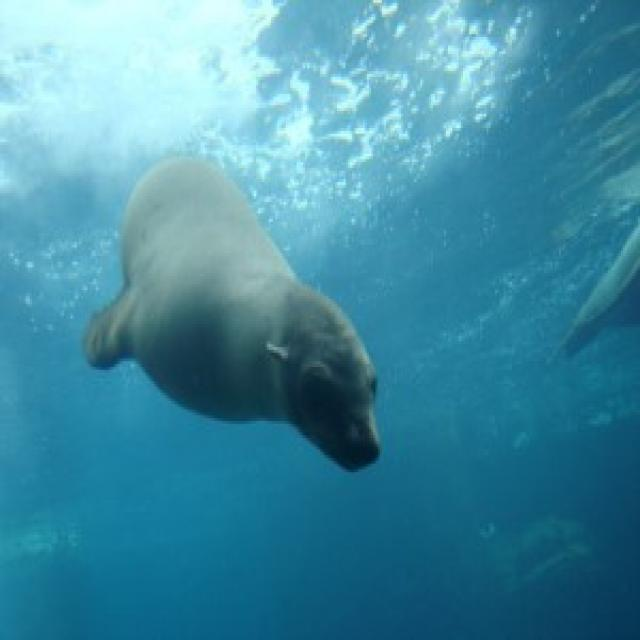Seal: (78, 147, 389, 500)
